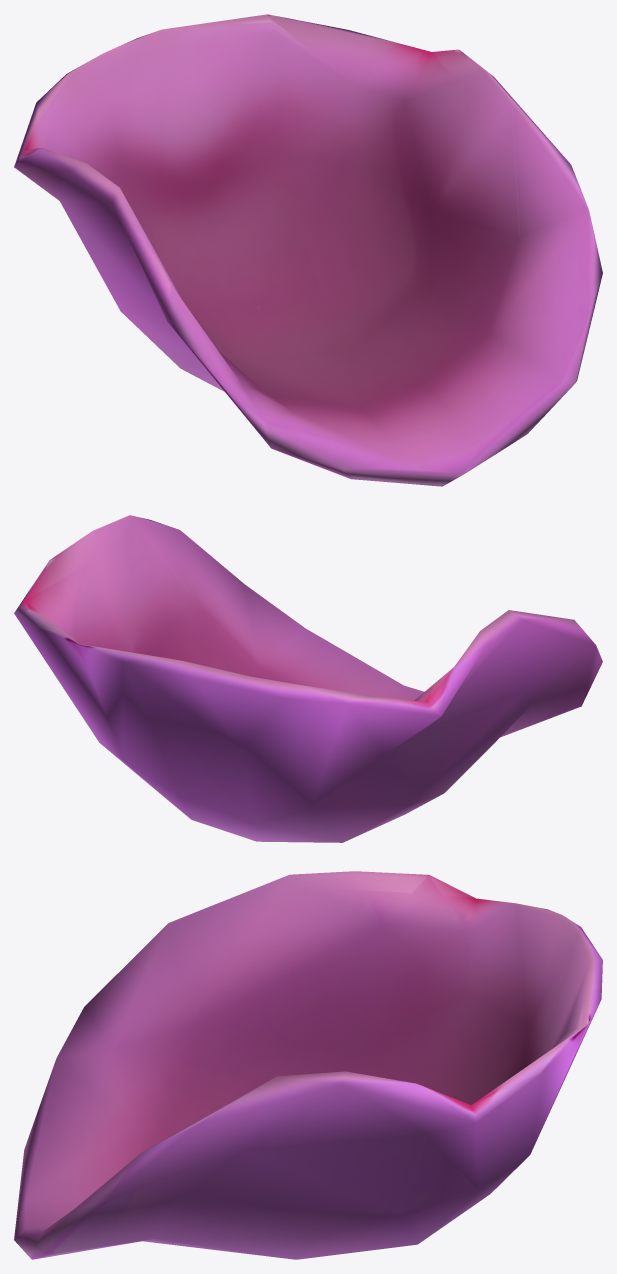
The model's file is petal-scatter.glb.
The picture shows the model from 3 angles, top to bottom: view 1: azimuth 30°, elevation 25°; view 2: azimuth 150°, elevation 25°; view 3: azimuth 270°, elevation 25°; orthographic projection. The views are drawn at different scales.
Size of the model in its own units: 1.29 by 0.7519 by 1.46.
Materials: 1 (1 with a texture image).
